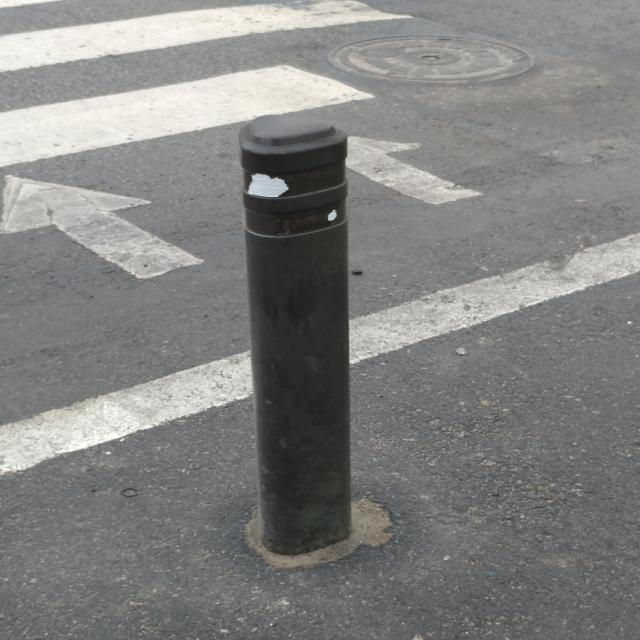pole: (237, 111, 359, 554)
